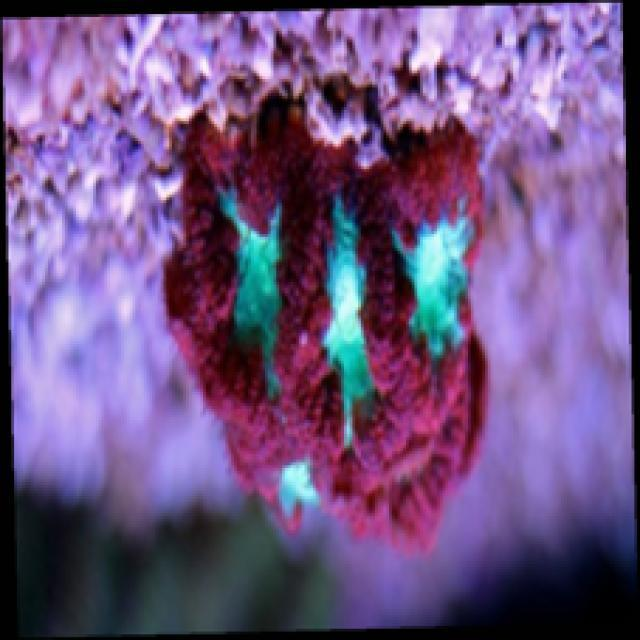Healthy: (163, 91, 501, 560)
